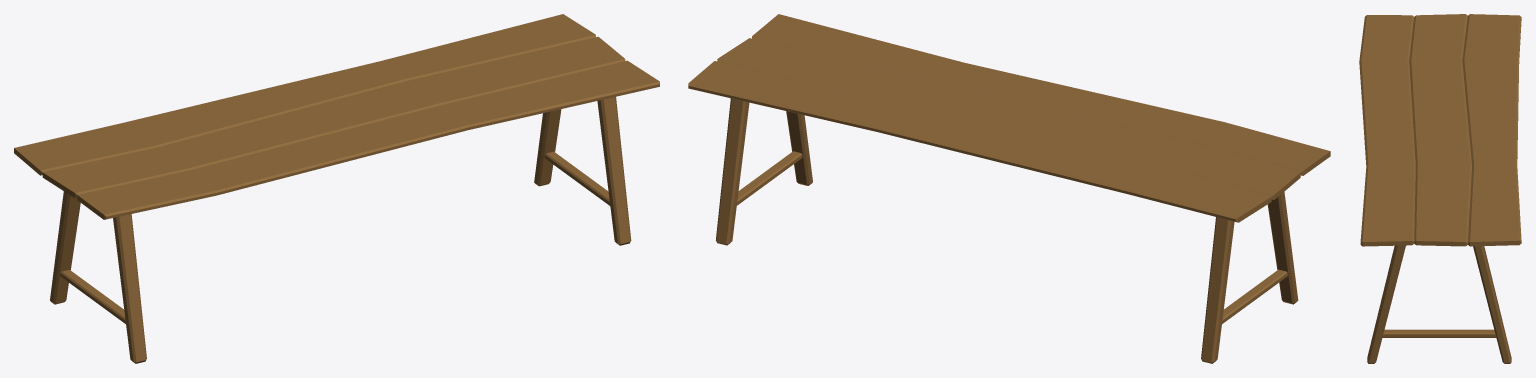
The model's file is table_b.gltf.
The picture shows the model from 3 angles, left to right: view 1: azimuth 30°, elevation 25°; view 2: azimuth 150°, elevation 25°; view 3: azimuth 270°, elevation 25°; orthographic projection. The views are drawn at different scales.
Parts seen in each view (by area): view 1: table_b001; view 2: table_b001; view 3: table_b001.
Part boxes in pixels (x1,y1,x2,y2): table_b001: (14, 14, 659, 363); table_b001: (688, 14, 1330, 363); table_b001: (1359, 14, 1521, 363).
Size of the model in its own units: 2.13 by 0.5777 by 0.6394.
1 material, 1 textured.
